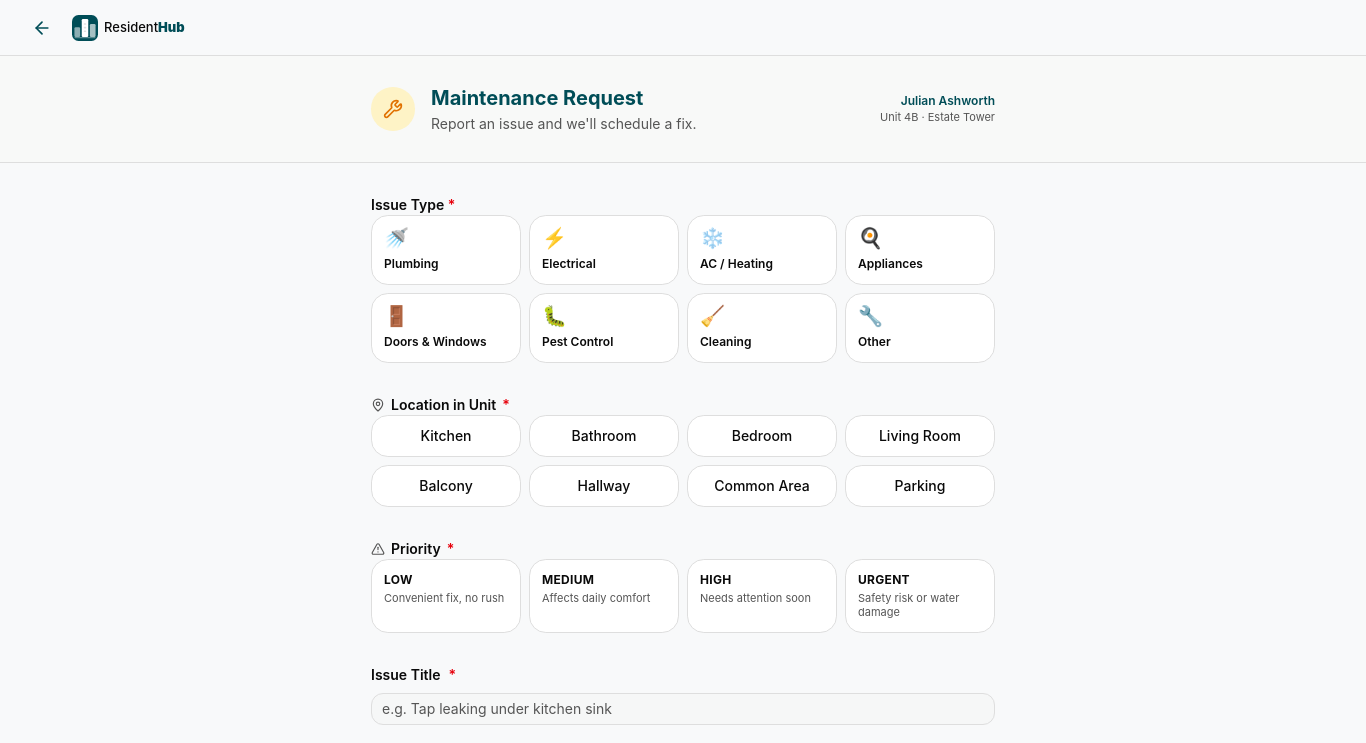
Test case: MaintenancePage › hides the warning banner when non-urgent priority is selected
The width and height of the screenshot is (1366, 743).
What coordinates should you click on to do the following:
click the radio button labelled "Urgent Safety risk or water damage"
I would click on:
 (920, 596)
Its box is [845,559,995,632].
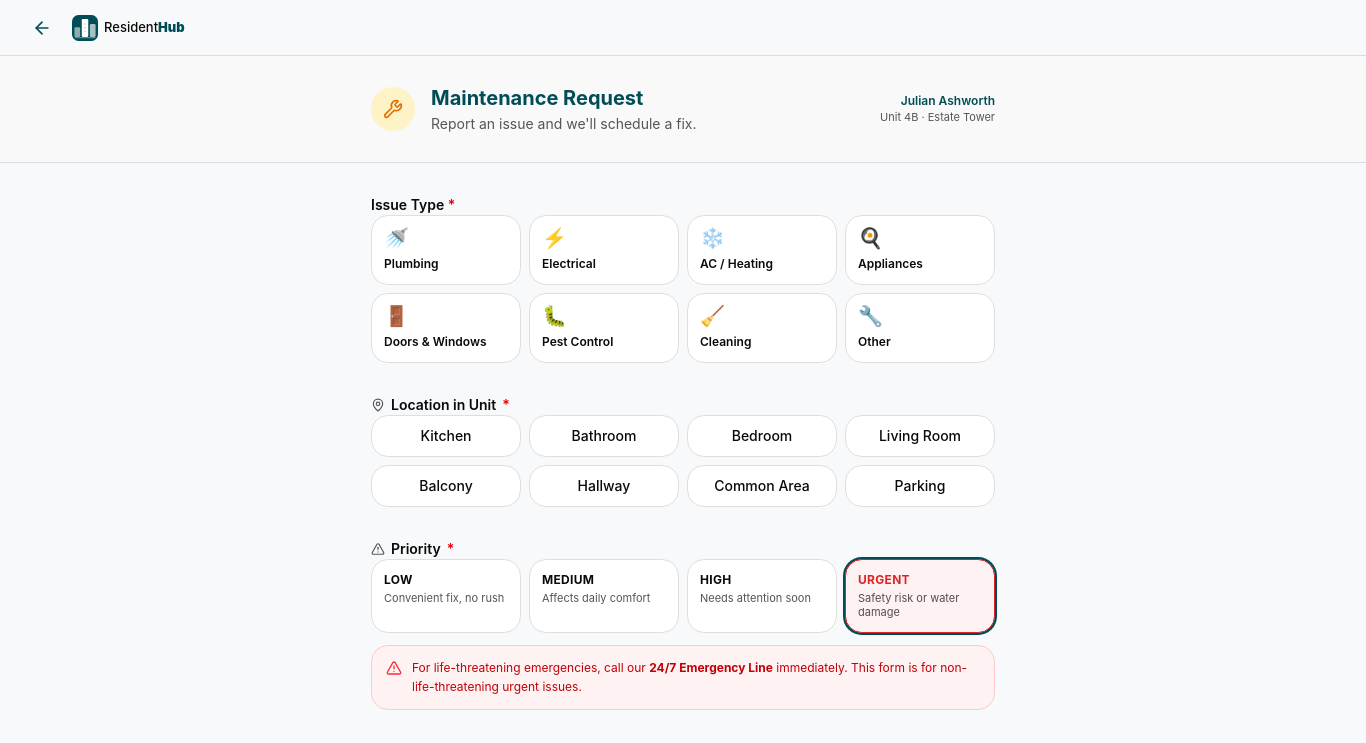
Result: the message is shown at [371,644,995,710]
What coordinates should you click on to do the following:
click the radio button labelled "Medium Affects daily comfort"
I would click on:
 (604, 596)
Its box is [529,559,679,632].
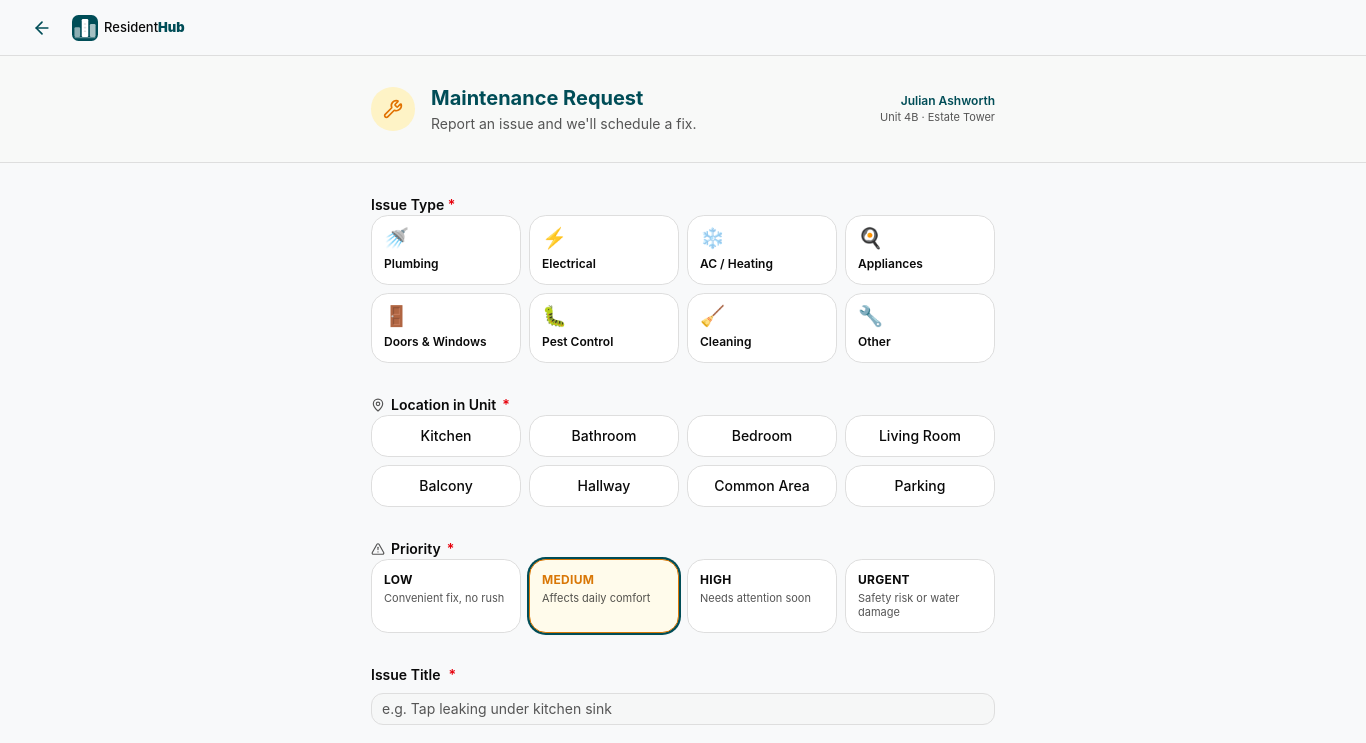
Result: the message is gone
